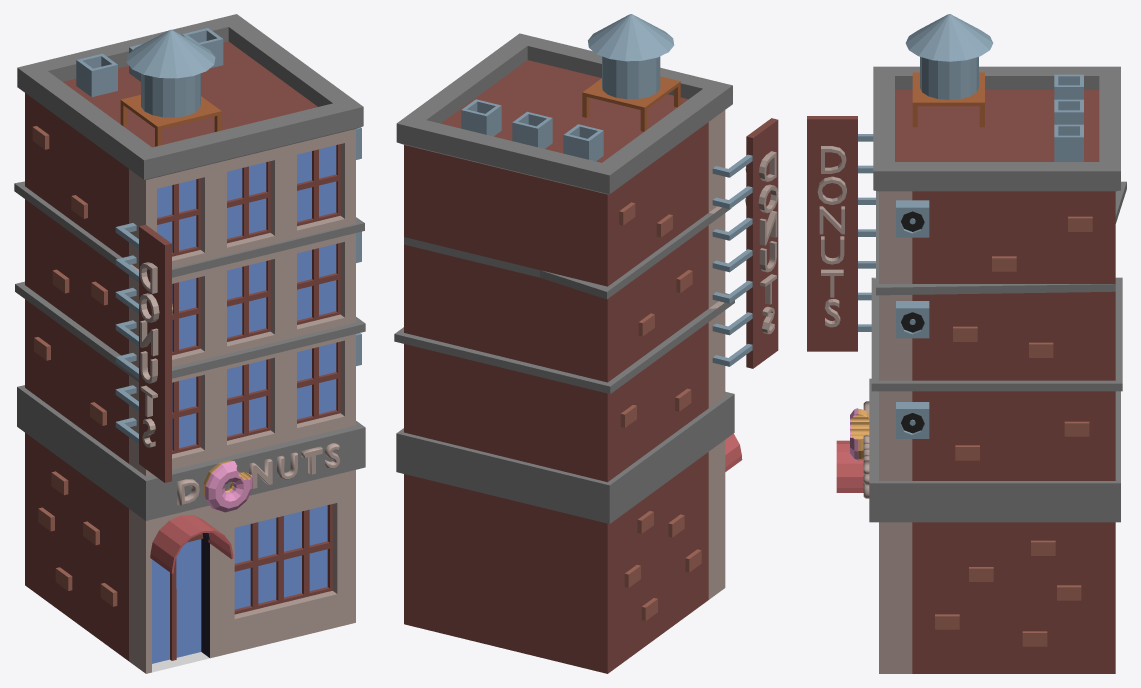
Rendered from Donut_Building_01_v2.fbx.
3 renders of one model, left to right at view 1: azimuth 30°, elevation 25°; view 2: azimuth 150°, elevation 25°; view 3: azimuth 270°, elevation 25°, orthographic. The views are drawn at different scales.
Visible parts, largest first — view 1: Building, WaterTank, SignBoard, SignBars, topVents, Text.002, Awning, Text.003, SideVent; view 2: Building, WaterTank, SignBoard, topVents, SignBars, Text.002; view 3: Building, SignBoard, WaterTank, SideVent, topVents, Text.001, Awning, SignBars, Text.003.
Boxes of the visible parts, box(x1,y1,x2,y2) form: Building: box(14, 14, 365, 673); WaterTank: box(120, 29, 221, 146); SignBoard: box(139, 224, 171, 482); SignBars: box(115, 223, 138, 443); topVents: box(76, 28, 223, 96); Text.002: box(139, 262, 159, 447); Awning: box(150, 515, 233, 573); Text.003: box(177, 443, 340, 505); SideVent: box(356, 127, 361, 365); Building: box(394, 33, 734, 673); WaterTank: box(582, 14, 680, 131); SignBoard: box(746, 118, 778, 368); topVents: box(461, 99, 603, 161); SignBars: box(712, 154, 752, 366); Text.002: box(758, 151, 778, 334); Building: box(850, 66, 1126, 673); SignBoard: box(807, 116, 857, 351); WaterTank: box(905, 14, 993, 127); SideVent: box(896, 200, 929, 438); topVents: box(1054, 74, 1083, 161); Text.001: box(817, 146, 846, 327); Awning: box(836, 440, 863, 492); SignBars: box(858, 134, 875, 331); Text.003: box(863, 401, 869, 498).
Size of the model in its own units: 946 by 2194 by 1081.
